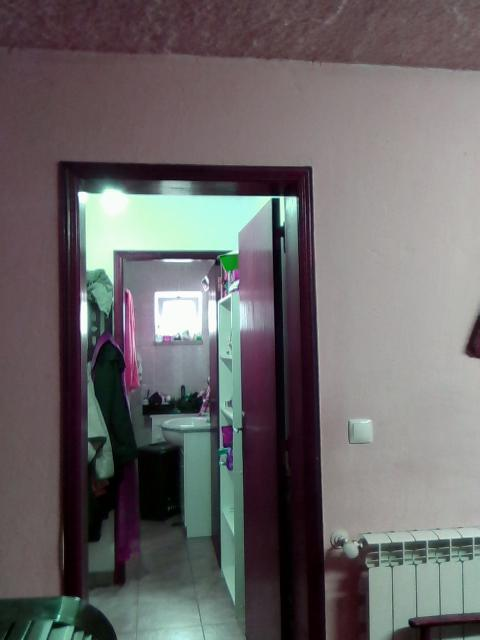open_door: (54, 159, 329, 638)
